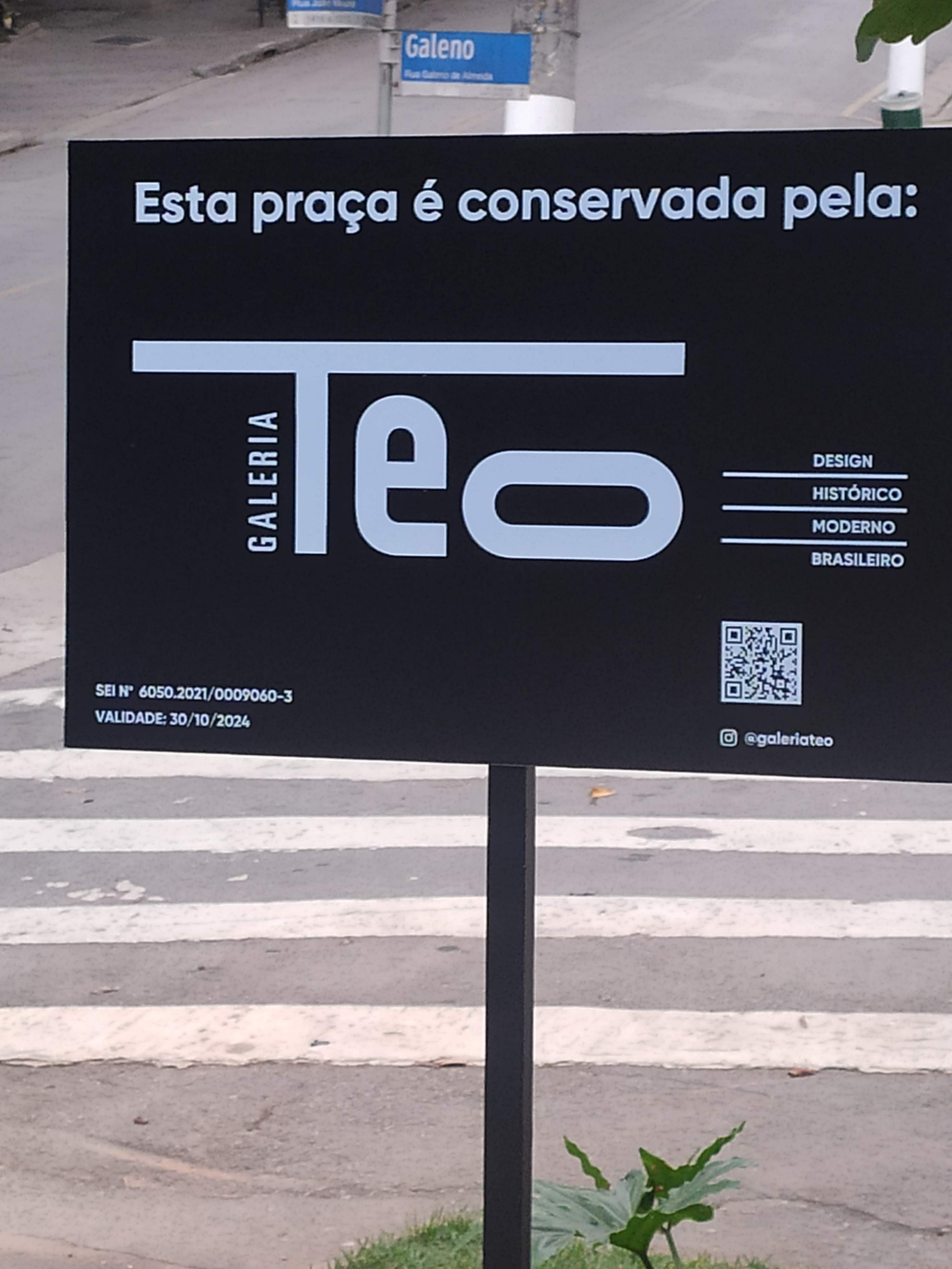QR-CODE: (725, 624, 798, 701)
